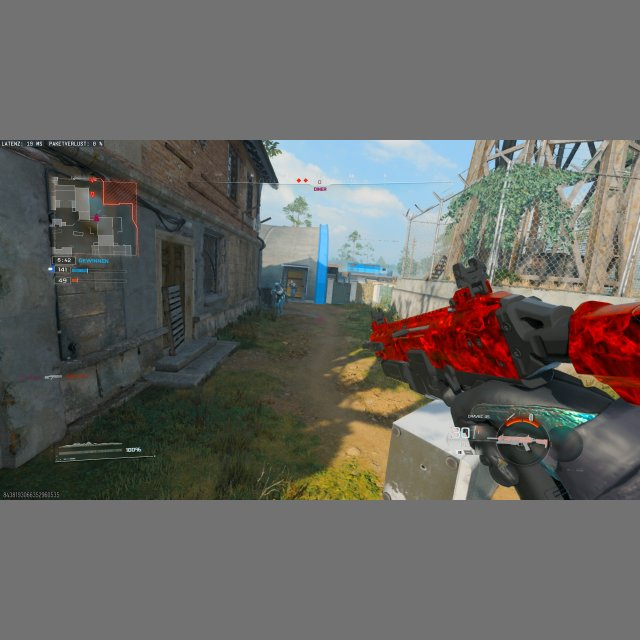player: (272, 282, 284, 309), (288, 280, 297, 298)
